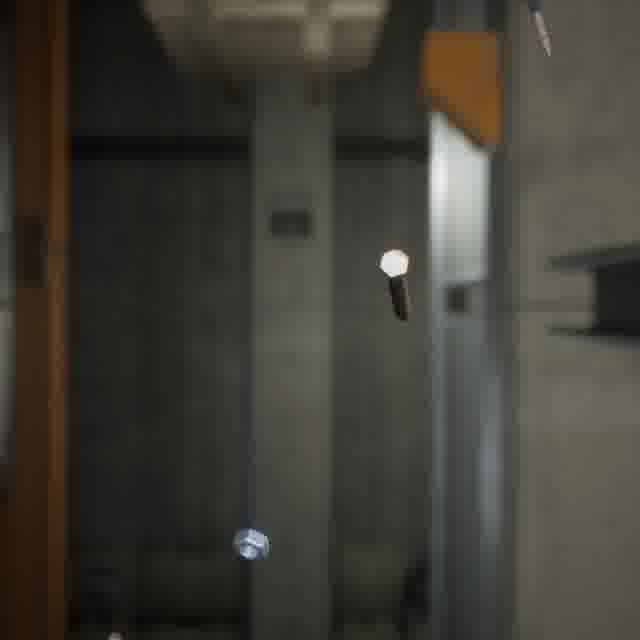bolt: (375, 244, 415, 325), (517, 0, 557, 62)
nut: (228, 524, 273, 566)
